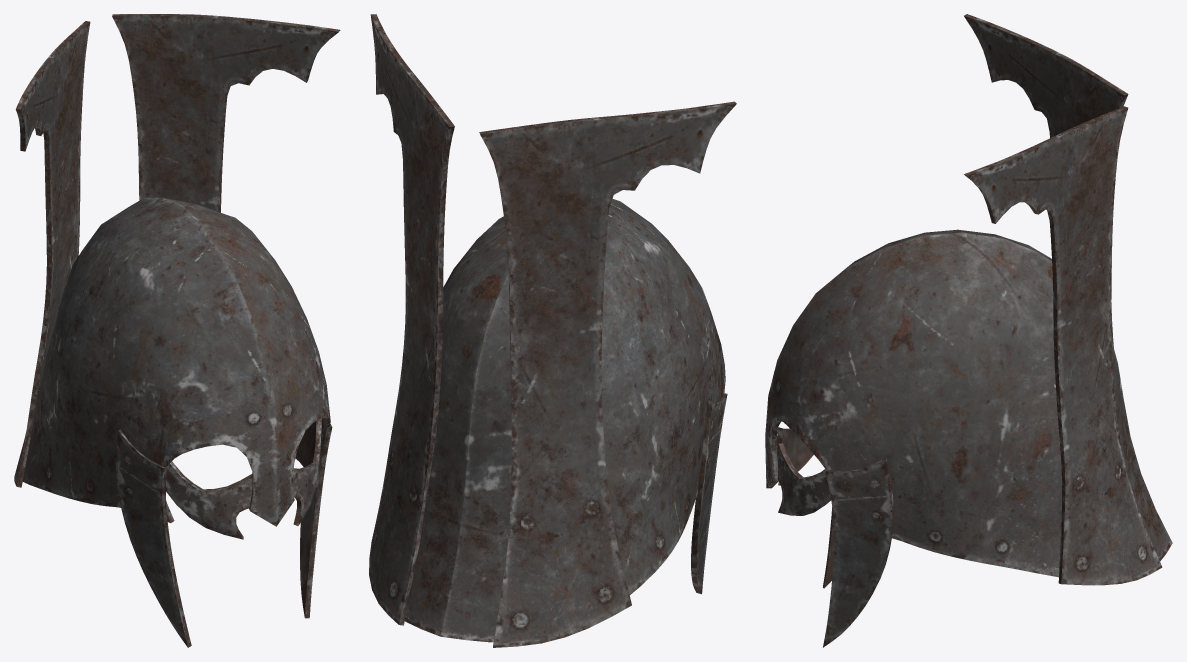
The model's file is sk_gb_uruk_helmet_heavy_a.fbx.
3 renders of one model, left to right at view 1: azimuth 30°, elevation 25°; view 2: azimuth 150°, elevation 25°; view 3: azimuth 270°, elevation 25°, orthographic. The views are drawn at different scales.
Visible parts, largest first — view 1: sk_gb_uruk_helmet_heavy_a; view 2: sk_gb_uruk_helmet_heavy_a; view 3: sk_gb_uruk_helmet_heavy_a.
Boxes of the visible parts, left/top/right/bottom form: sk_gb_uruk_helmet_heavy_a: left=14, top=14, right=340, bottom=647; sk_gb_uruk_helmet_heavy_a: left=369, top=14, right=736, bottom=647; sk_gb_uruk_helmet_heavy_a: left=765, top=14, right=1172, bottom=647.
Size of the model in its own units: 0.287 by 0.3051 by 0.4318.
Materials: 1 (1 with a texture image).
